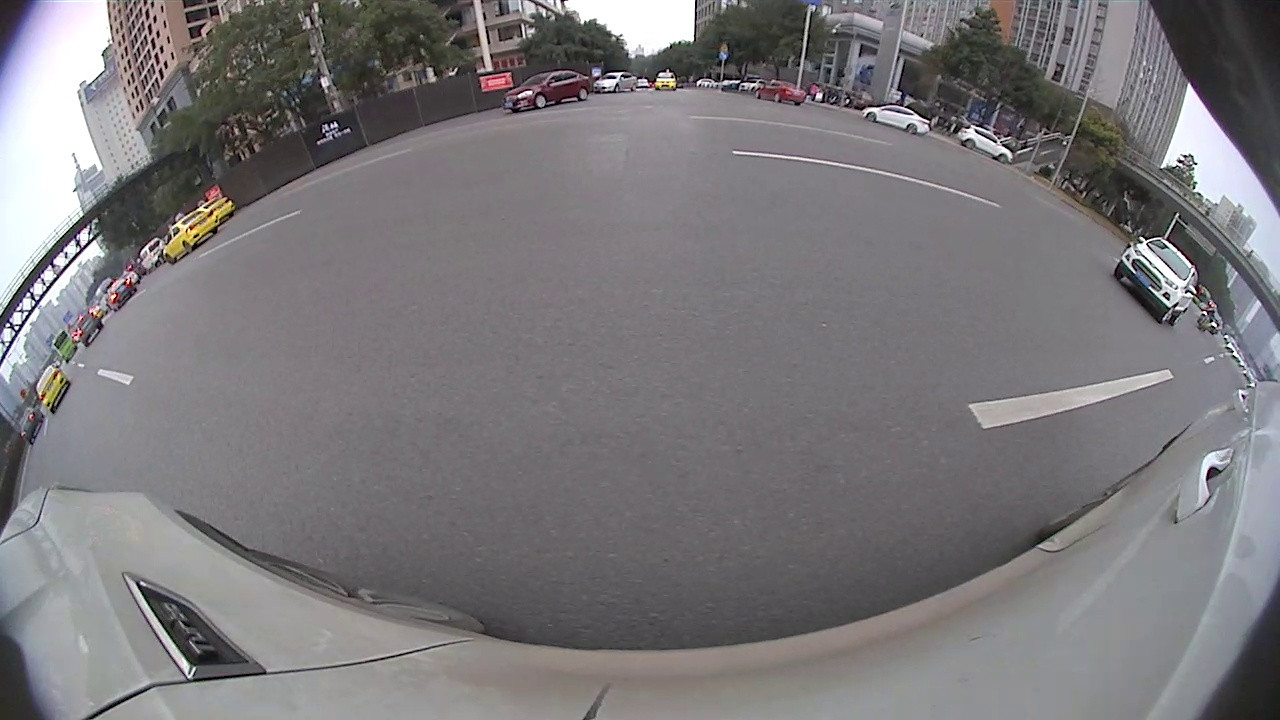car: (1113, 234, 1200, 328), (502, 68, 594, 113), (161, 208, 221, 266), (957, 122, 1017, 166), (860, 102, 934, 137), (34, 363, 71, 415), (755, 78, 811, 107), (595, 71, 641, 95)
front: (1158, 305, 1174, 323), (537, 95, 545, 110), (999, 154, 1008, 164), (867, 113, 875, 122)
rear: (1171, 310, 1185, 327), (577, 90, 587, 101), (965, 140, 975, 151), (907, 124, 915, 135)
